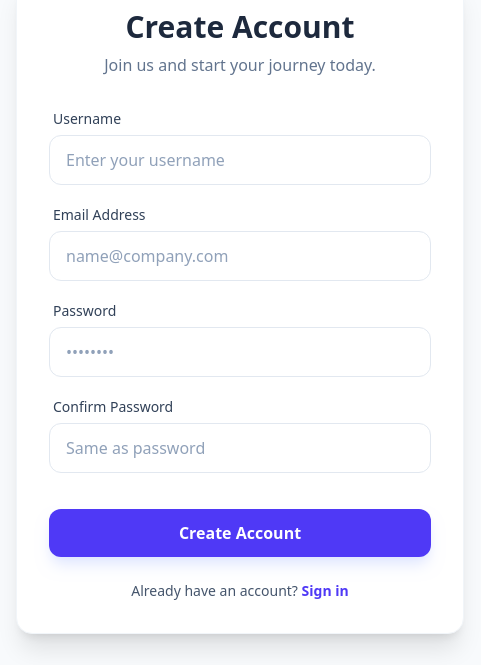
Test: SignUp Integration Test › SignUp Success › When SignUp successfully,should redirect to Login Page
Type "Curry" into the field with placeholder "Enter your username".
click(240, 160); type("Curry")  # box x1=49 y1=135 x2=431 y2=185
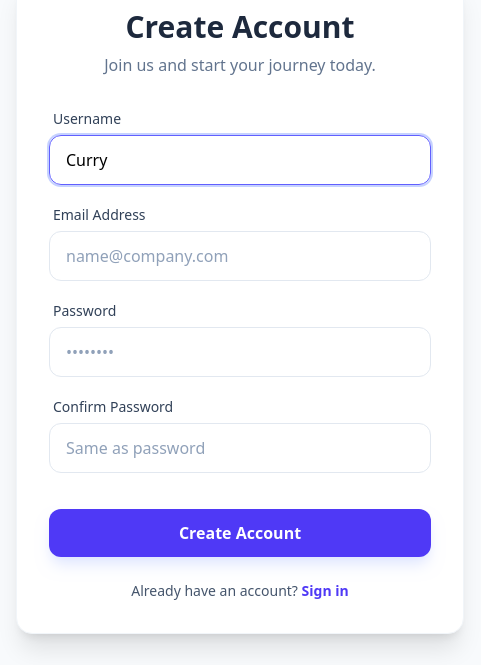
Type "email@email.com" into the field with placeholder "name@company.com".
click(240, 256); type("email@email.com")  # box x1=49 y1=231 x2=431 y2=281
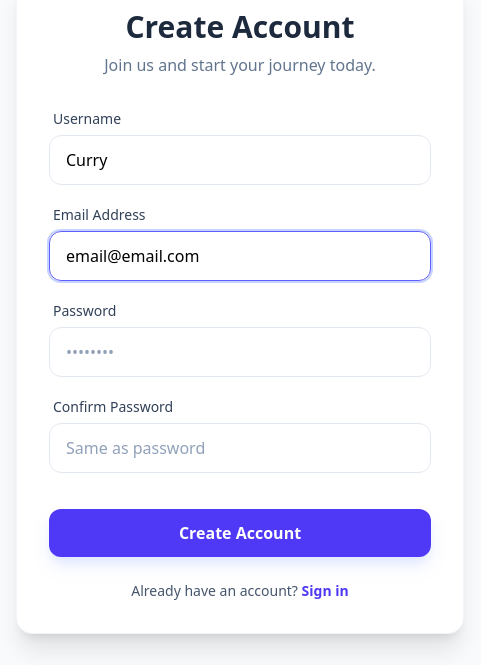
Type "Awyd899?" into the password field with placeholder "••••••••".
click(240, 352); type("Awyd899?")  # box x1=49 y1=327 x2=431 y2=377
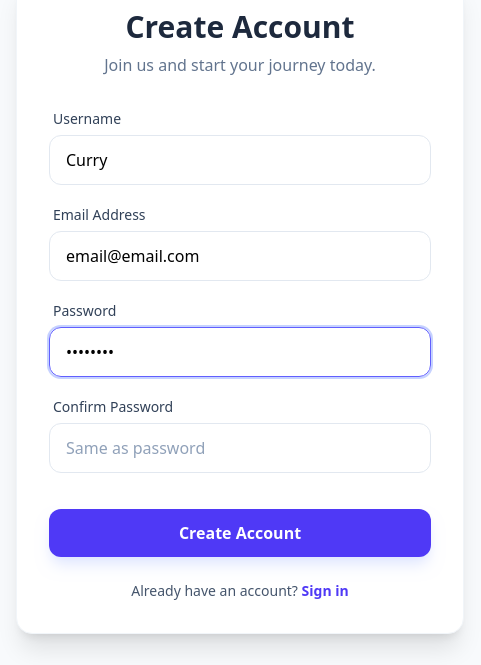
Type "Awyd899?" into the password field with placeholder "Same as password".
click(240, 448); type("Awyd899?")  # box x1=49 y1=423 x2=431 y2=473
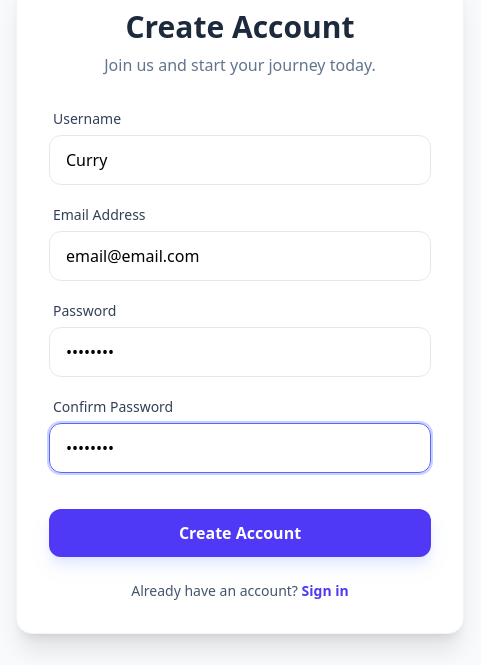
Click the button "Create Account".
click(240, 533)  # box x1=49 y1=509 x2=431 y2=557
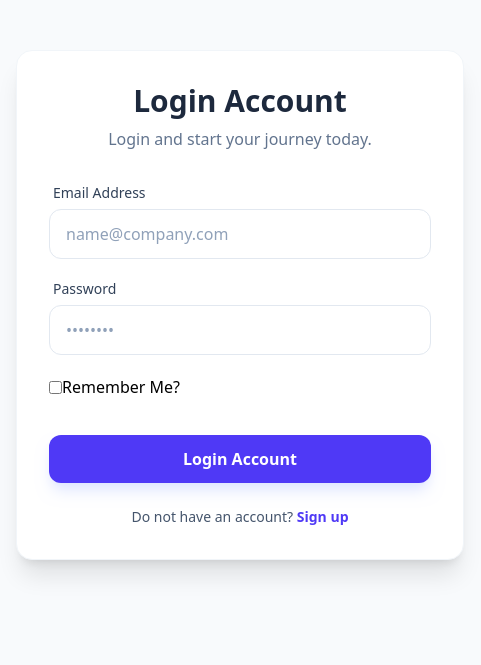
Check: the heading "Create" is gone
Check: the button "Login Account" is shown, box x1=49 y1=435 x2=431 y2=483
